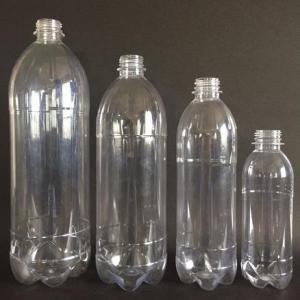Plastic-bottle: (9, 18, 93, 289), (97, 54, 169, 292), (177, 78, 239, 292), (241, 131, 295, 292)
